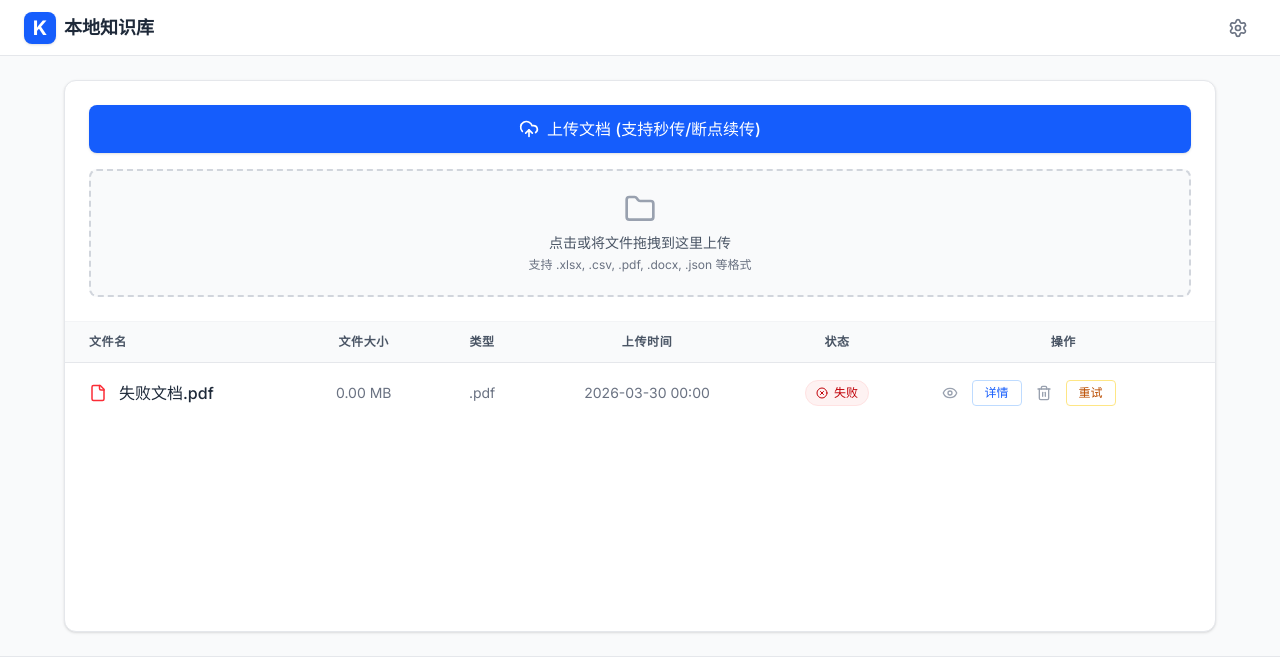
Test: App › renders pipeline status panel in document detail view
Click the button "详情": [996, 393] box 972,380 -> 1022,406
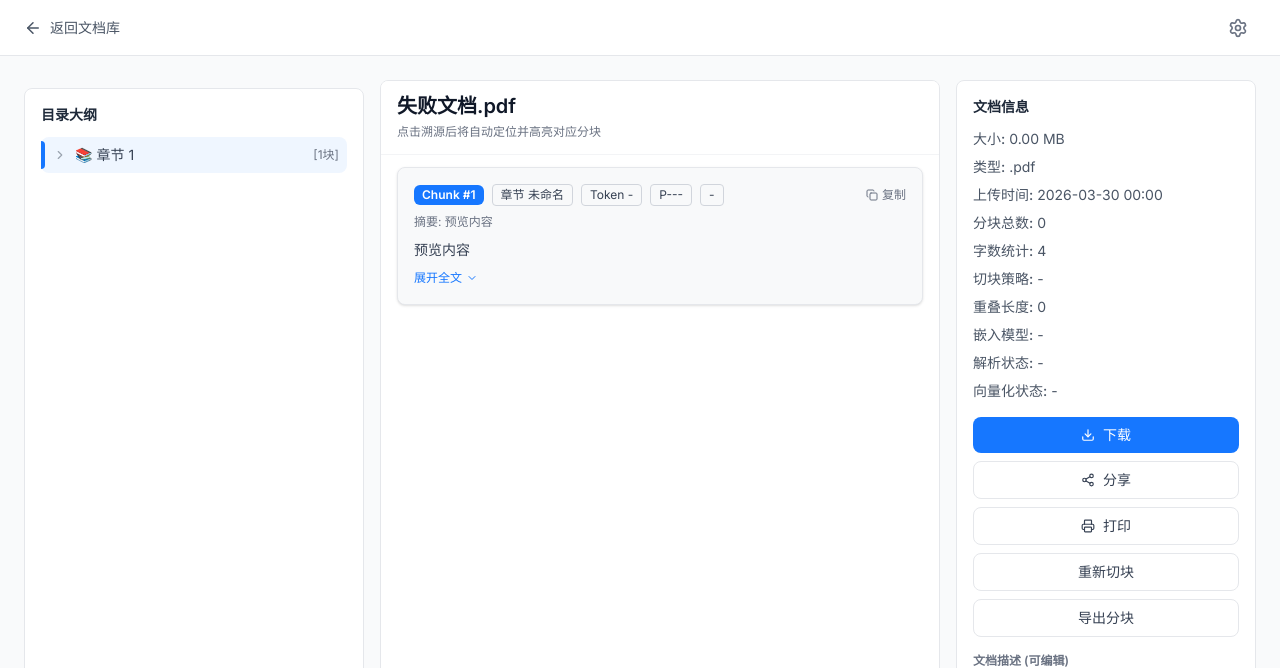
Expected: the button "返回文档库" is shown, 24,18 -> 120,38
